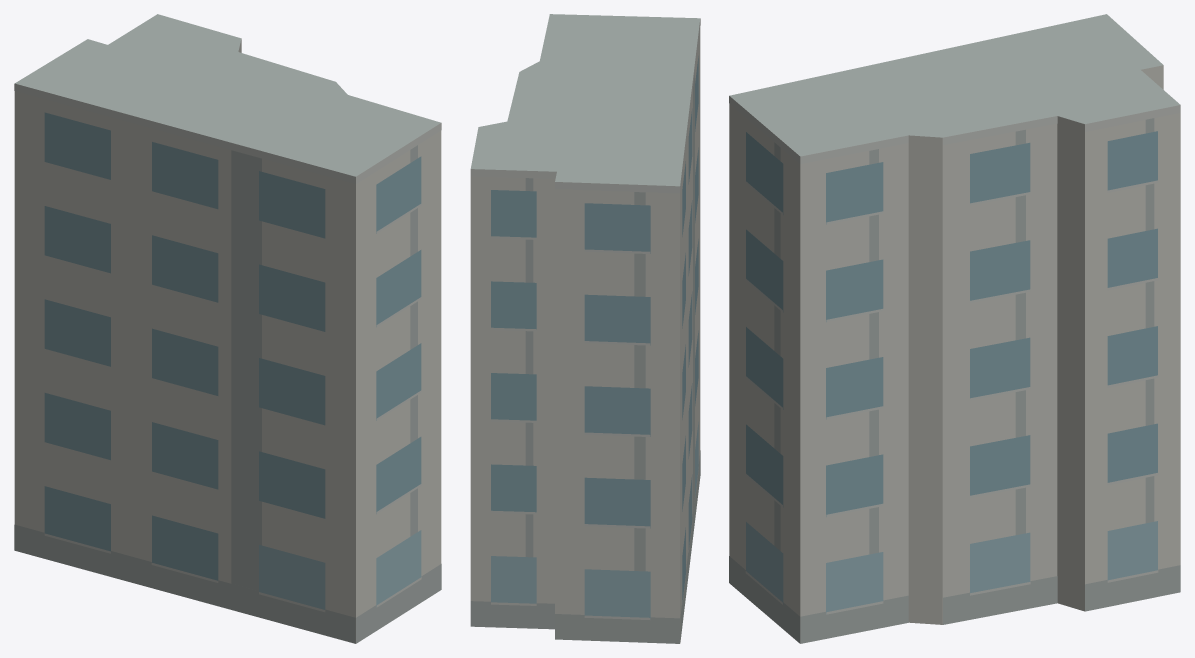
The model's file is residential-c0711718-b19f-4a7e-8554-e60fecc2a930.glb.
3 views of the same model, side by side, from view 1: azimuth 30°, elevation 25°; view 2: azimuth 150°, elevation 25°; view 3: azimuth 270°, elevation 25° (orthographic). The views are drawn at different scales.
Parts seen in each view (by area): view 1: residential-c0711718-b19f-4a7e-8554-e60fecc2a930.tmp; view 2: residential-c0711718-b19f-4a7e-8554-e60fecc2a930.tmp; view 3: residential-c0711718-b19f-4a7e-8554-e60fecc2a930.tmp.
Part boxes in pixels (<box>): residential-c0711718-b19f-4a7e-8554-e60fecc2a930.tmp: <box>14,14,441,643</box>; residential-c0711718-b19f-4a7e-8554-e60fecc2a930.tmp: <box>470,14,700,643</box>; residential-c0711718-b19f-4a7e-8554-e60fecc2a930.tmp: <box>729,14,1180,643</box>.
Size of the model in its own units: 9.57 by 15.25 by 12.81.
